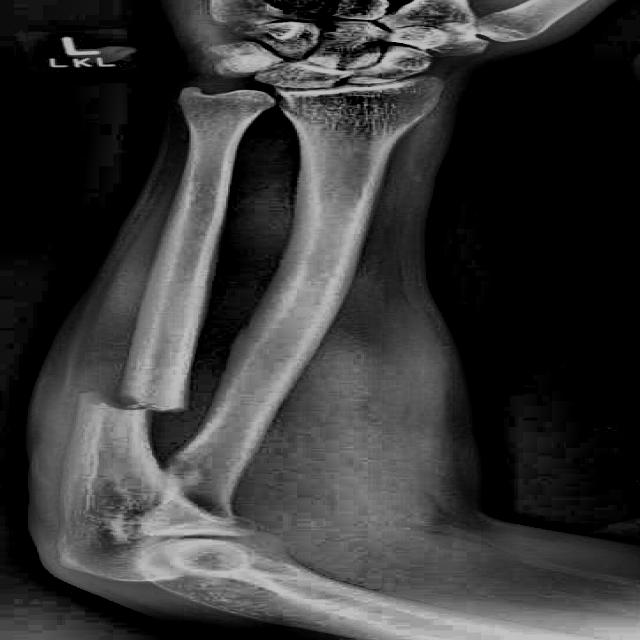messed_up_angle: (78, 386, 198, 416)
